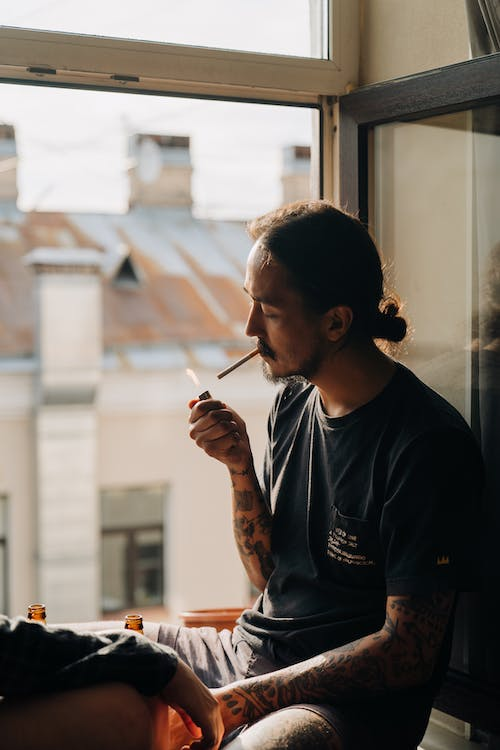cigarette: (214, 347, 261, 381)
